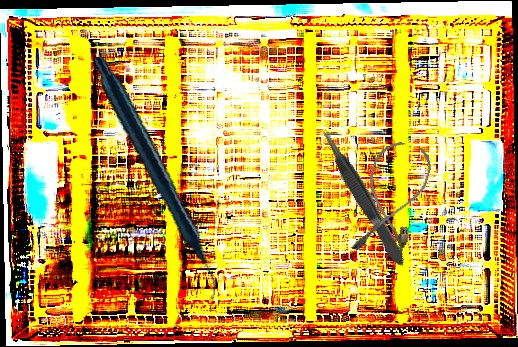Cannula: (348, 136, 436, 264)
Handpiece: (59, 56, 249, 301)
Tissue Forceps: (315, 122, 409, 272)
